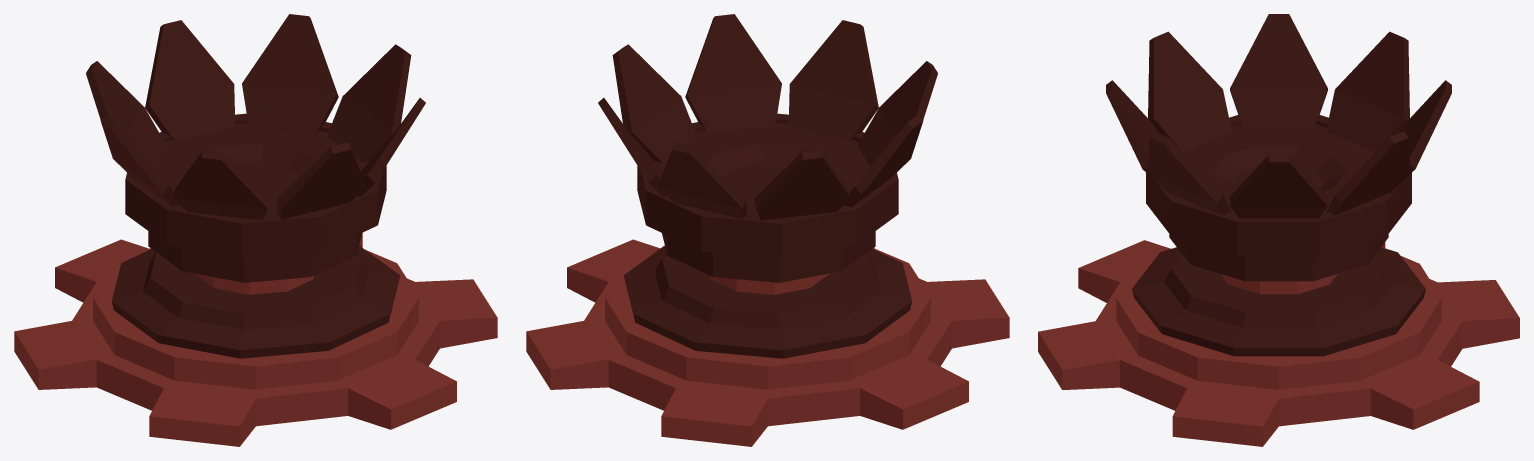
The model's file is Teleporter1.glb.
The picture shows the model from 3 angles, left to right: view 1: azimuth 30°, elevation 25°; view 2: azimuth 150°, elevation 25°; view 3: azimuth 270°, elevation 25°; orthographic projection.
Parts seen in each view (by area): view 1: Teleporter1, Teleporter1_Top; view 2: Teleporter1, Teleporter1_Top; view 3: Teleporter1, Teleporter1_Top.
Boxes of the visible parts, box(x1,y1,x2,y2) form: Teleporter1: box(14, 113, 497, 446); Teleporter1_Top: box(86, 14, 425, 220); Teleporter1: box(526, 113, 1009, 446); Teleporter1_Top: box(598, 14, 937, 220); Teleporter1: box(1038, 115, 1519, 446); Teleporter1_Top: box(1106, 14, 1451, 218).
Bounding box in the file's own units: 0.9224 × 0.5587 × 0.9224.
